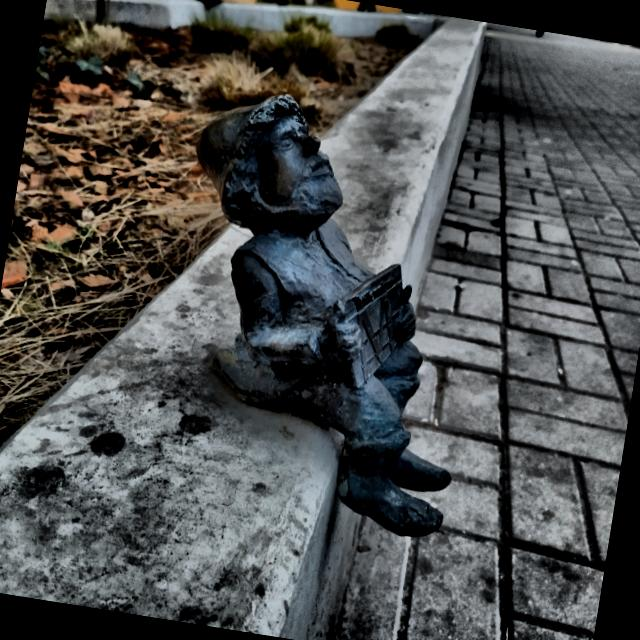Krasnal_Millenniowski: (196, 95, 452, 539)
